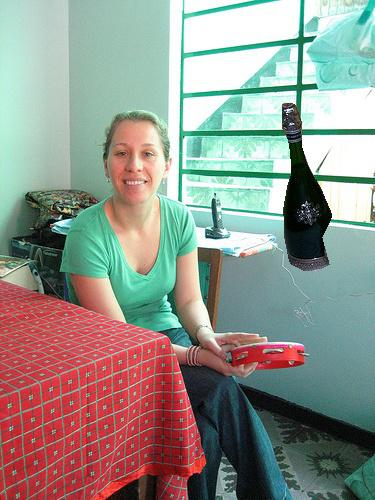tampered: (283, 104, 332, 271)
